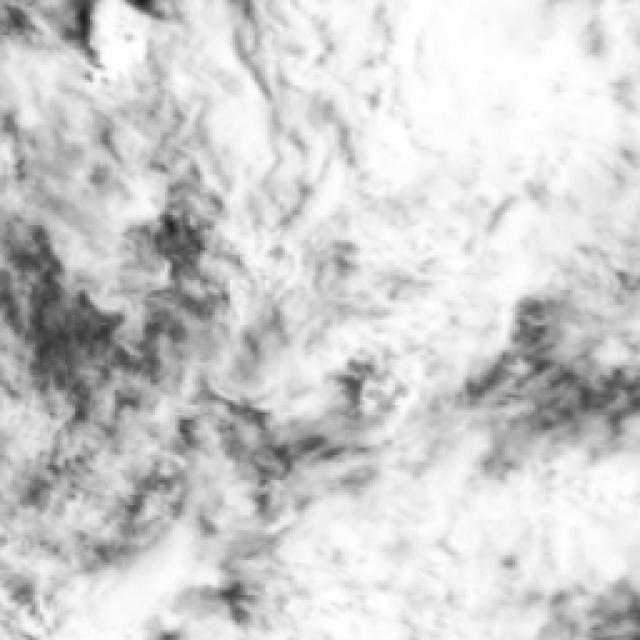CB: (369, 5, 586, 176)
